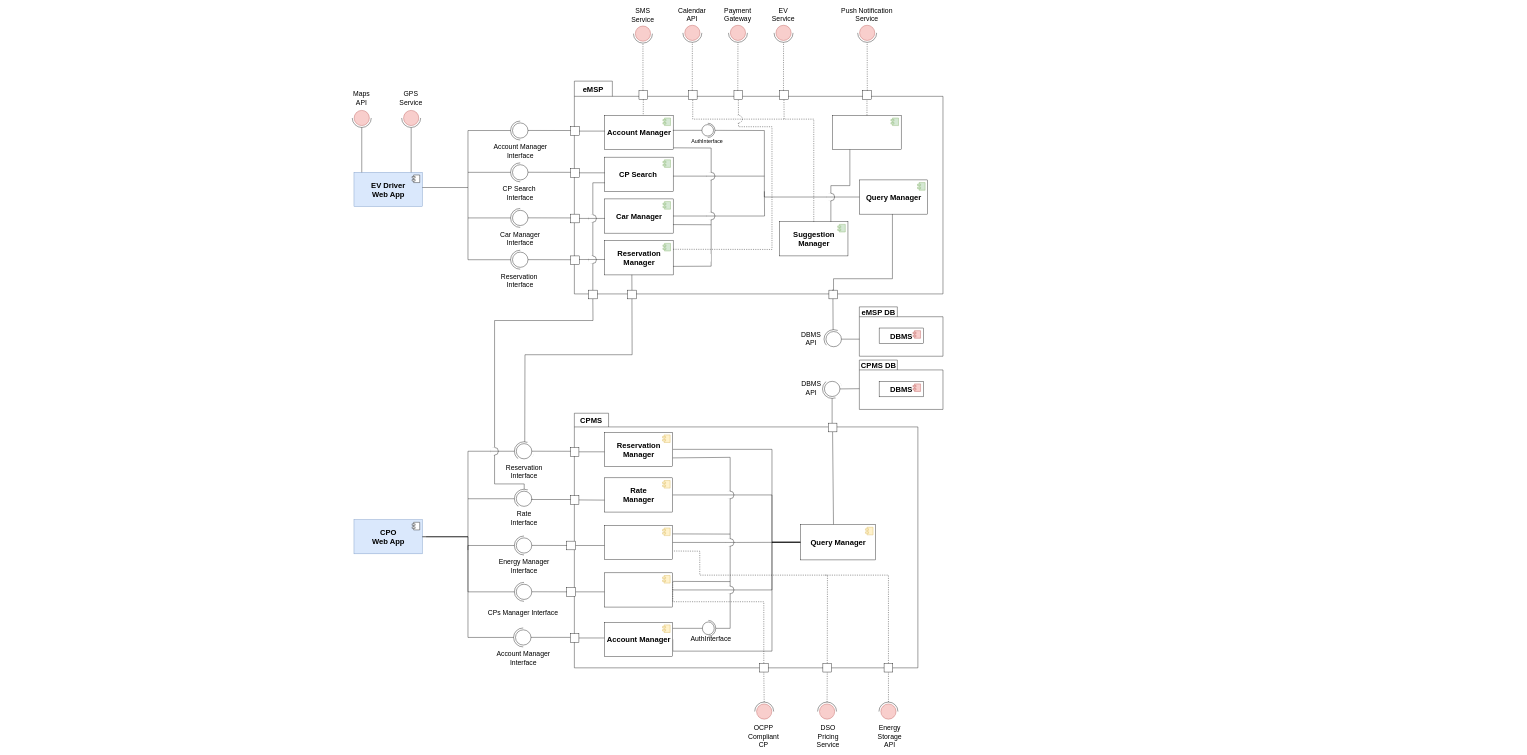
Image size: 1527x755. Some labels were removed from this diagram. Each missing label, with the centre of its shape:
Charging Points Manager: point 638,589
Energy Manager: point 638,542
Notification Manager: point 866,132
